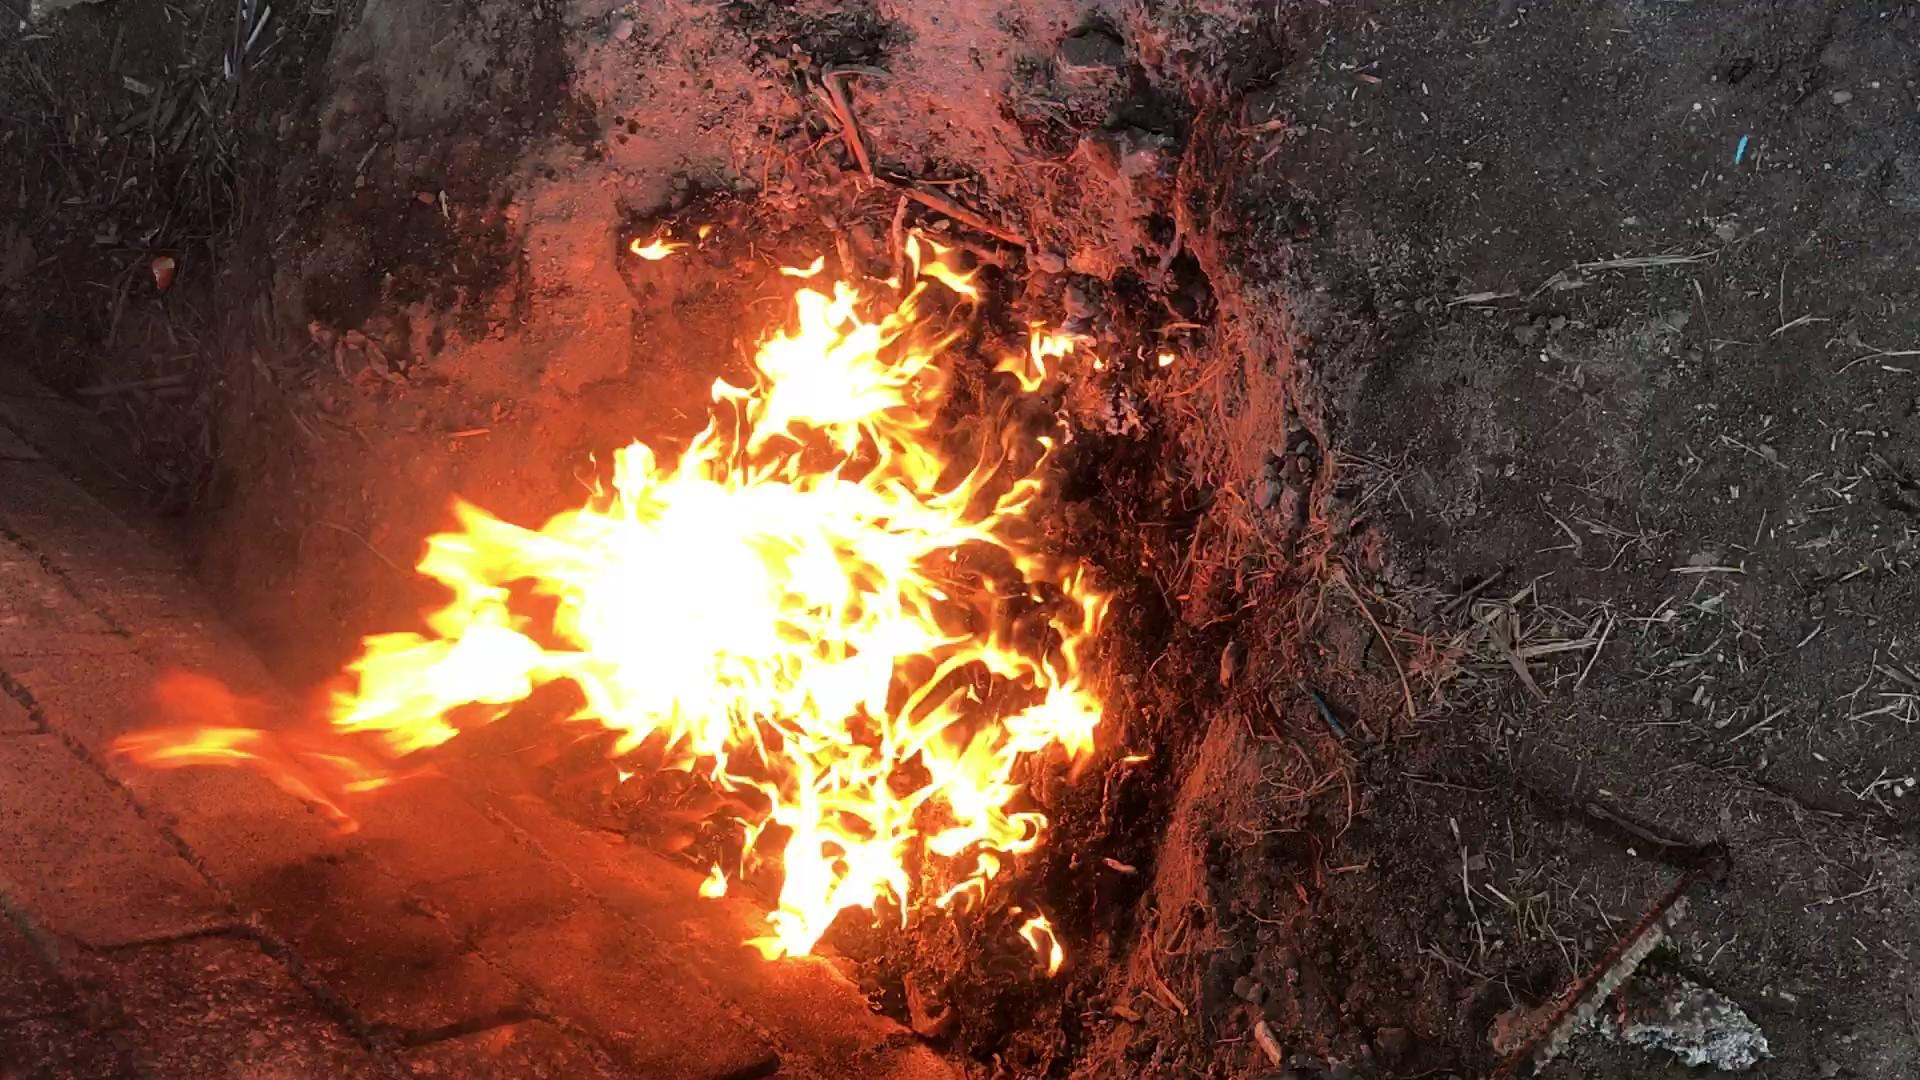fire: (54, 148, 1520, 712)
